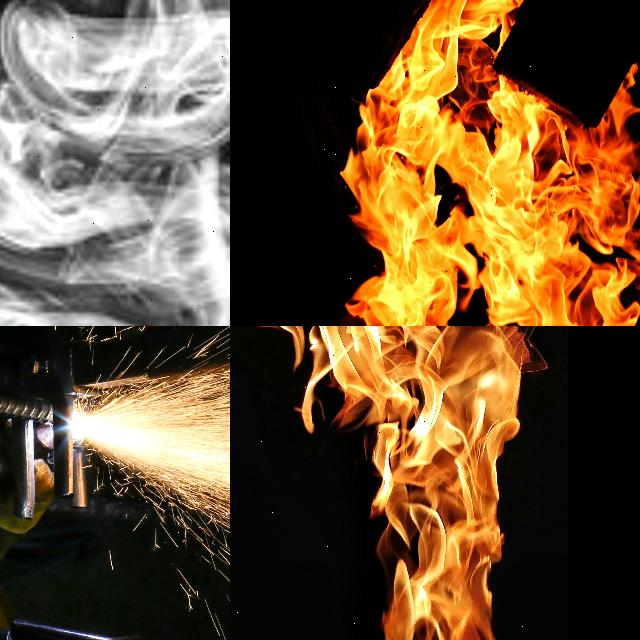fire: (343, 0, 640, 326), (266, 326, 530, 640), (74, 362, 230, 530)
smoke: (0, 0, 230, 326)
